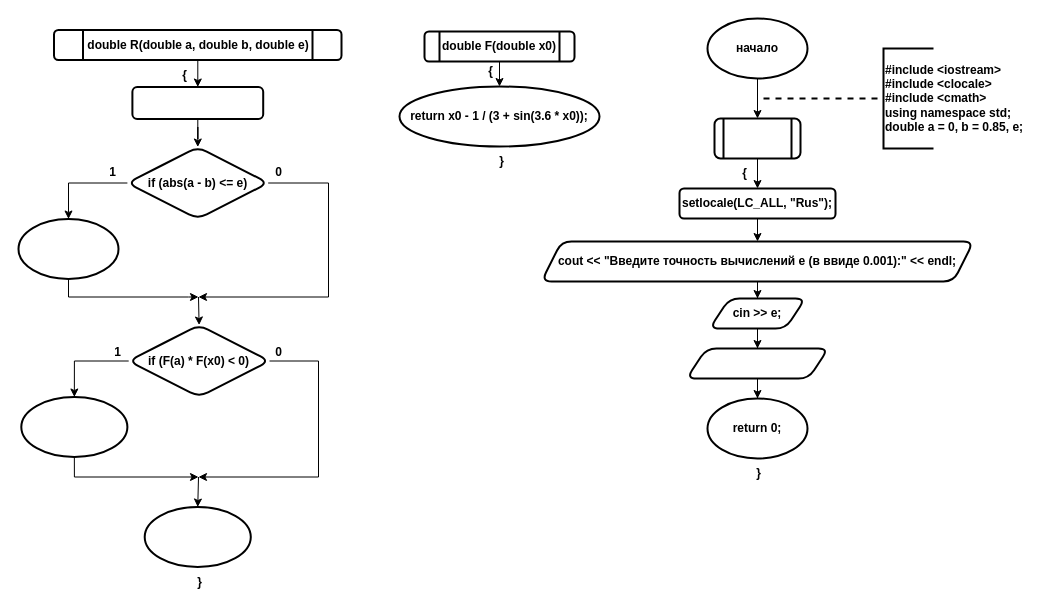
The diagram is 1040 pixels wide and 612 high, and some of its shapes have lost their labels. Each missing label, with the centre of its shape:
"cout << R(a, b, e);" goes at pixel 757 363.
"double x0 = (a + b) / 2;" goes at pixel 197 103.
"int main()" goes at pixel 757 138.
"return a;" goes at pixel 68 249.
"return R(a, x0, e);" goes at pixel 74 427.
"return R(x0, b, e);" goes at pixel 197 537.
